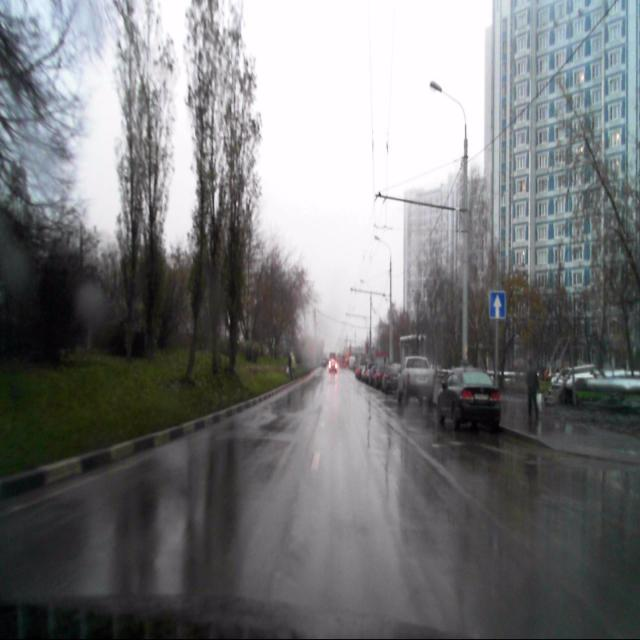road sign: (489, 291, 506, 319)
